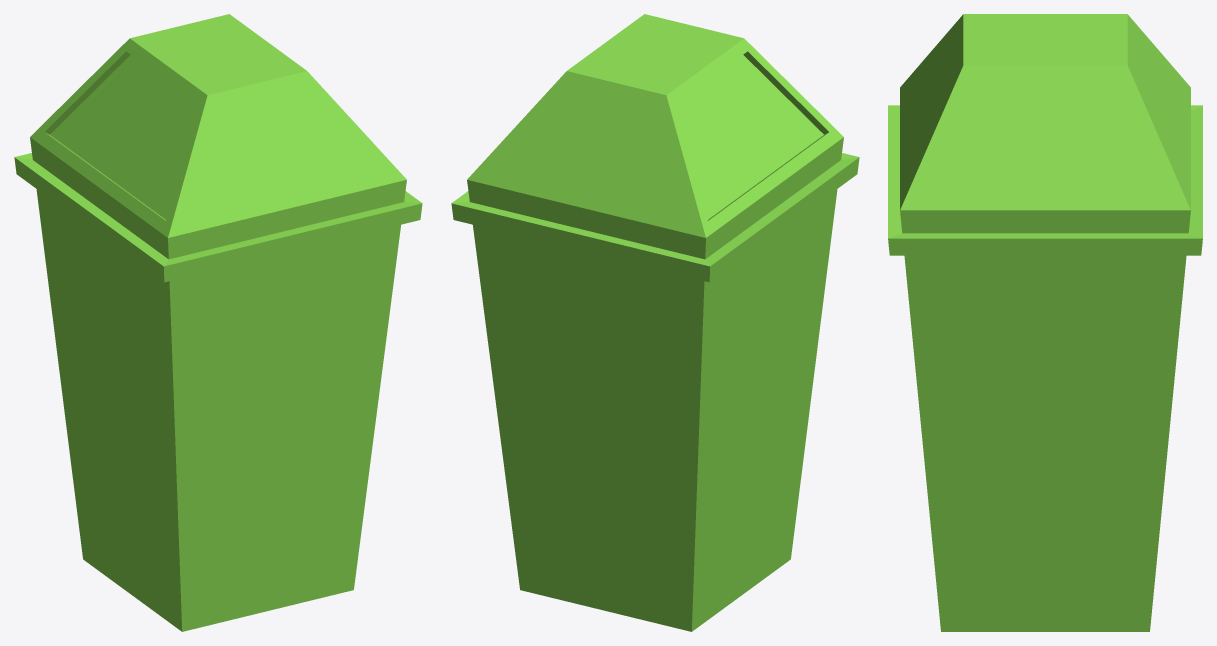
File: tacho con color.fbx
3 renders of one model, left to right at view 1: azimuth 30°, elevation 25°; view 2: azimuth 150°, elevation 25°; view 3: azimuth 270°, elevation 25°, orthographic. The views are drawn at different scales.
Parts seen in each view (by area): view 1: Cube.004; view 2: Cube.004; view 3: Cube.004.
Part boxes in pixels (left/top/right/bottom): Cube.004: left=14, top=14, right=422, bottom=631; Cube.004: left=451, top=14, right=859, bottom=631; Cube.004: left=888, top=14, right=1202, bottom=631.
Size of the model in its own units: 217 by 416 by 217.
